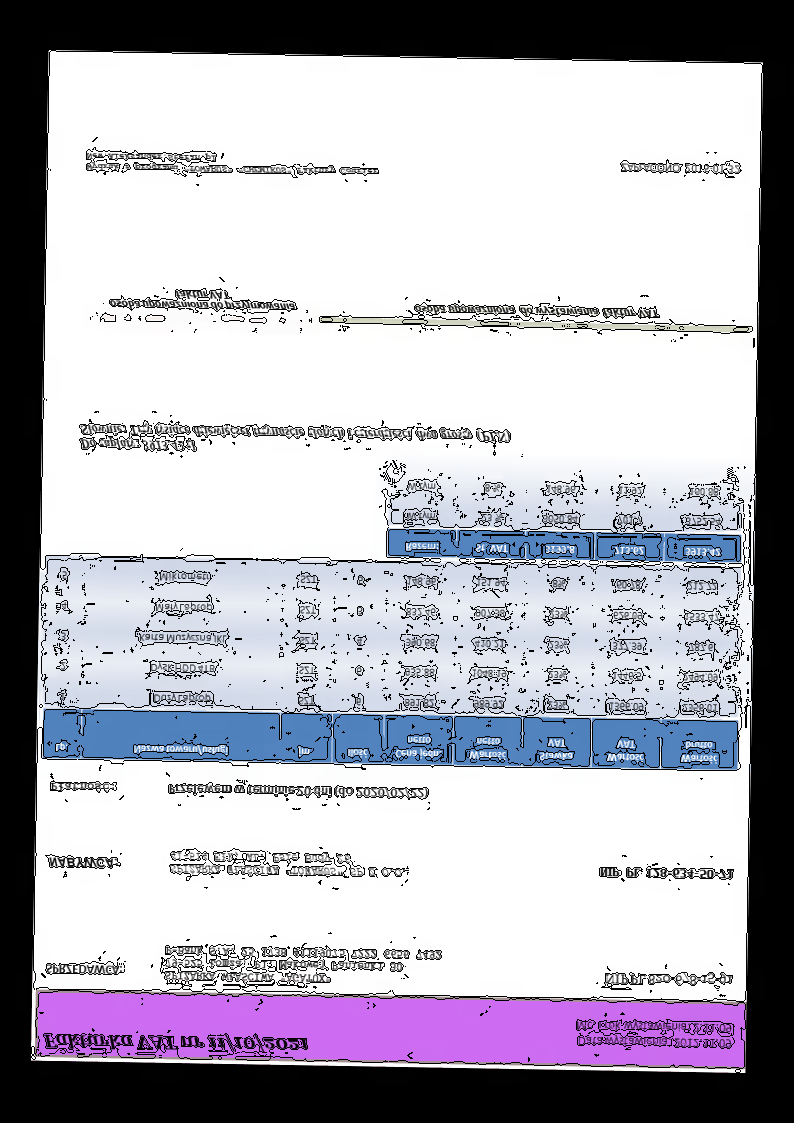Table: (40, 555, 742, 773), (386, 465, 743, 564)
TextBox: (77, 420, 513, 460), (160, 943, 442, 988), (82, 149, 381, 178), (166, 849, 409, 881), (40, 1030, 310, 1056), (412, 300, 663, 322), (572, 1019, 735, 1052), (107, 287, 296, 315), (166, 780, 430, 800), (598, 864, 735, 883), (600, 970, 734, 988), (617, 158, 742, 177), (43, 962, 124, 978), (48, 779, 118, 797), (46, 855, 119, 872)
